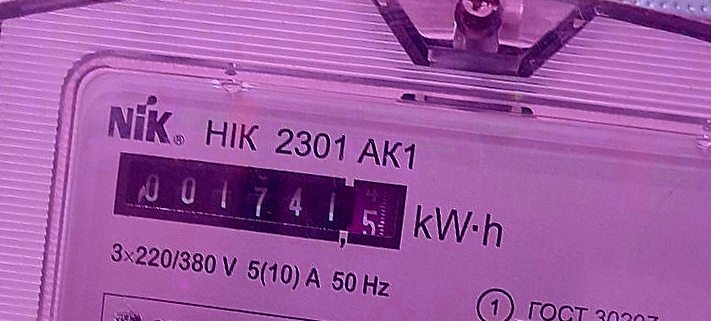0: (177, 171, 200, 207), (141, 169, 164, 204)
1: (212, 174, 234, 212), (321, 188, 341, 225)
4: (284, 182, 309, 219), (363, 184, 381, 204)
5: (357, 204, 380, 237)
7: (248, 182, 269, 219)
screen: (105, 139, 416, 261)
